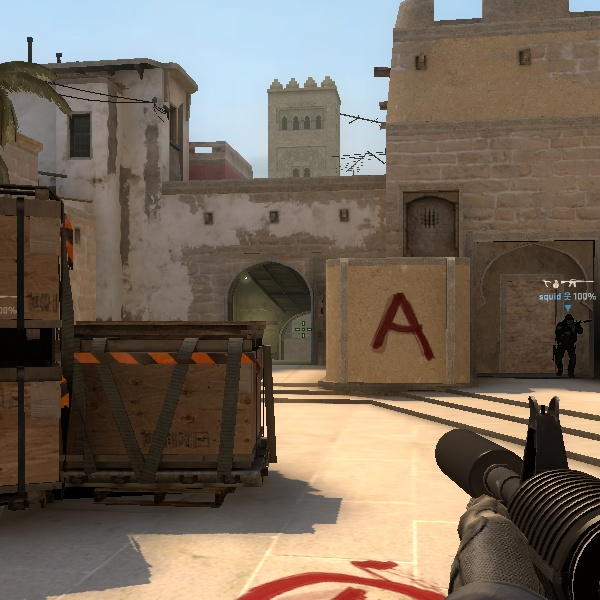ct_body: (544, 304, 590, 382)
ct_head: (563, 311, 578, 328)
